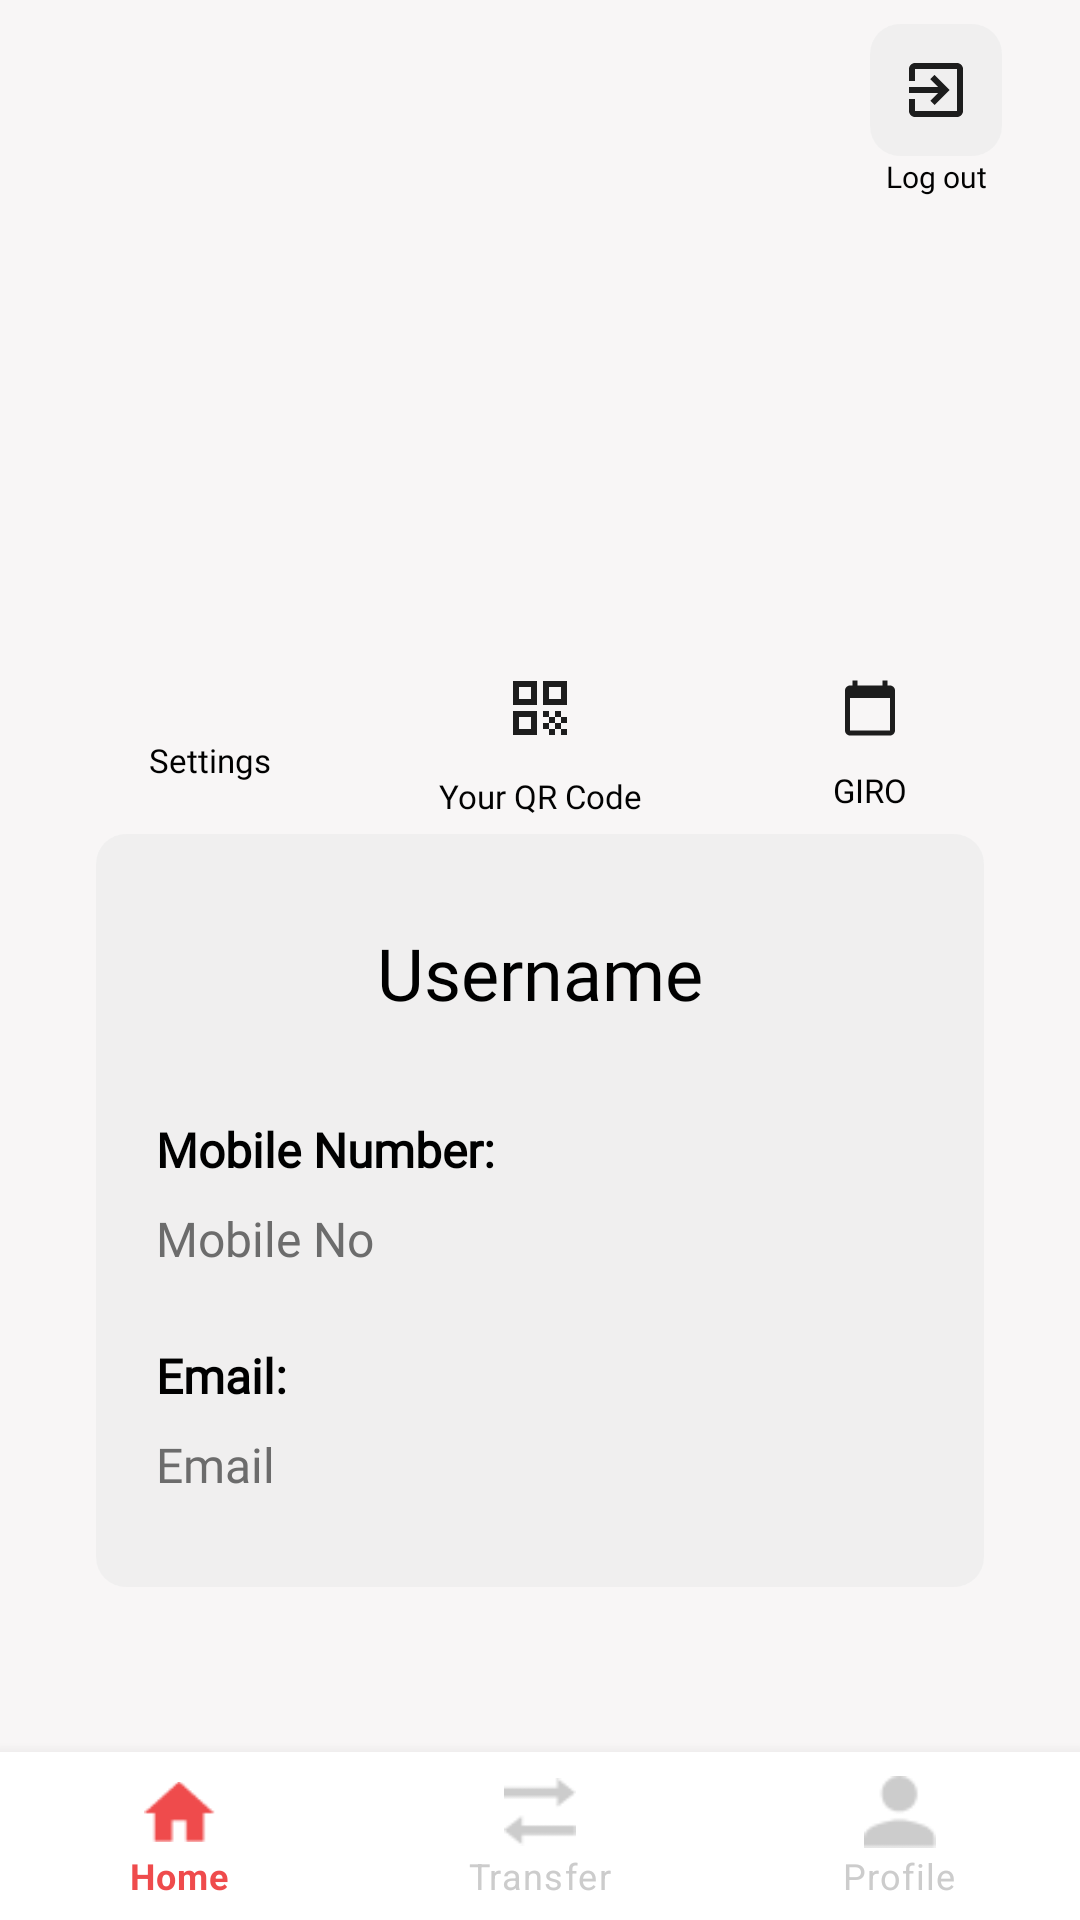

Screen size 1080x1920. Icon name, then its box in pixels as box(x1, y1, x2, y2):
calendar today: box(845, 680, 895, 736)
exit to app: box(909, 63, 963, 117)
